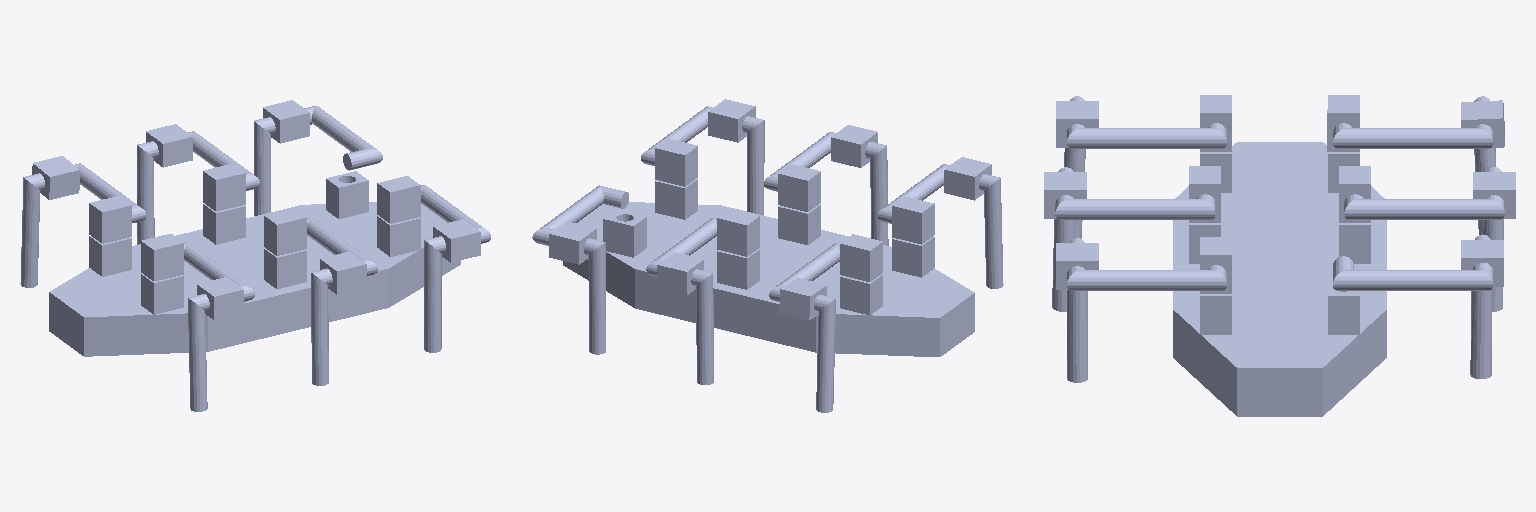
--- What the picture shows (computed from the rendered views, not written in the file) ---
3 views of the same robot in one strip: view 1: azimuth 30°, elevation 25°; view 2: azimuth 150°, elevation 25°; view 3: azimuth 270°, elevation 25° (orthographic).
Model hexapod with 20 links and 19 joints (18 revolute, 1 fixed), rooted at dummy_link, posed all joints at 0.
Links seen in each view (by area): view 1: base_link, lf2_Link, rf2_Link, rm2_Link, rb2_Link, lb2_Link, lm2_Link, rf3_Link, rb3_Link, rm3_Link, lb3_Link, rf1_Link (+6 smaller); view 2: base_link, lf2_Link, lm2_Link, lb2_Link, rb2_Link, rf2_Link, rm2_Link, lb3_Link, lm3_Link, rb3_Link, lf3_Link, rf1_Link (+6 smaller); view 3: base_link, lf2_Link, rm2_Link, lm2_Link, lb2_Link, rf2_Link, rb2_Link, rf3_Link, lf3_Link, lb1_Link, rm1_Link, lm1_Link (+6 smaller).
Link boxes in pixels (box(x1,y1,x2,y2)): base_link: box(49, 171, 460, 356); lf2_Link: box(263, 100, 382, 170); rf2_Link: box(421, 185, 490, 262); rm2_Link: box(307, 217, 377, 294); rb2_Link: box(184, 242, 254, 319); lb2_Link: box(32, 156, 146, 222); lm2_Link: box(146, 124, 259, 190); rf3_Link: box(424, 236, 445, 352); rb3_Link: box(188, 294, 209, 411); rm3_Link: box(311, 268, 332, 385); lb3_Link: box(20, 173, 44, 287); rf1_Link: box(377, 176, 420, 223); base_link: box(563, 179, 974, 356); lf2_Link: box(532, 185, 628, 264); lm2_Link: box(646, 218, 716, 295); lb2_Link: box(769, 243, 839, 319); rb2_Link: box(877, 157, 991, 223); rf2_Link: box(641, 99, 755, 165); rm2_Link: box(764, 125, 877, 191); lb3_Link: box(814, 295, 835, 412); lm3_Link: box(691, 269, 713, 384); rb3_Link: box(979, 174, 1003, 288); lf3_Link: box(584, 238, 605, 354); rf1_Link: box(655, 139, 697, 186); base_link: box(1173, 142, 1386, 416); lf2_Link: box(1333, 240, 1503, 290); rm2_Link: box(1044, 172, 1215, 219); lm2_Link: box(1344, 172, 1515, 219); lb2_Link: box(1333, 100, 1504, 148); rf2_Link: box(1056, 243, 1226, 290); rb2_Link: box(1056, 101, 1226, 148); rf3_Link: box(1067, 238, 1087, 382); lf3_Link: box(1470, 234, 1492, 378); lb1_Link: box(1327, 95, 1359, 151); rm1_Link: box(1189, 166, 1220, 222); lm1_Link: box(1339, 166, 1370, 222).
Bounding box of the posed robot: 0.25 × 0.22 × 0.0752 m (x, y, z).
Meshes: 19 distinct files referenced, 18 mesh visuals loaded (18 binary STL); not drawn: 1 (reference not matched to a file when rendering).

The robot description file, URDF, robot "hexapod":
<?xml version="1.0" encoding="utf-8"?>
<!-- This URDF was automatically created by SolidWorks to URDF Exporter! Originally created by Stephen Brawner ([email redacted]) 
     Commit Version: 1.6.0-1-g15f4949  Build Version: 1.6.7594.29634
     For more information, please see http://wiki.ros.org/sw_urdf_exporter -->
<robot
  name="hexapod">
    <link
    name="dummy_link" >
    <origin xyz="0 0 0" rpy="0 0 0" />
  </link>
  <joint
    name="dummy_joint"
    type="fixed">
    <parent
      link="dummy_link" />
    <child
      link="base_link" />
  </joint>
  <link
    name="base_link">
    <inertial>
      <origin
        xyz="3.20145534604253E-18 -1.38244662670018E-17 0.0227176528069366"
        rpy="0 0 0" />
      <mass
        value="0.258787611019616" />
      <inertia
        ixx="0.000389103015670694"
        ixy="-5.12225850354026E-19"
        ixz="-1.521049054889E-20"
        iyy="0.0022209092656707"
        iyz="-4.42660169786293E-21"
        izz="0.00255301401180441" />
    </inertial>
    <visual>
      <origin
        xyz="0 0 0"
        rpy="0 0 0" />
      <geometry>
        <mesh
          filename="package://hexapod/meshes/base_link.STL" />
      </geometry>
      <material
        name="">
        <color
          rgba="0.792156862745098 0.819607843137255 0.933333333333333 1" />
      </material>
    </visual>
    <collision>
      <origin
        xyz="0 0 0"
        rpy="0 0 0" />
      <geometry>
        <mesh
          filename="package://hexapod/meshes/base_link.STL" />
      </geometry>
    </collision>
  </link>
  <link
    name="rf1_Link">
    <inertial>
      <origin
        xyz="-0.000801354318491834 0.0105128667638348 0"
        rpy="0 0 0" />
      <mass
        value="0.00490044257124357" />
      <inertia
        ixx="2.78904980779558E-07"
        ixy="-2.01402307191712E-09"
        ixz="-8.74038380890282E-23"
        iyy="2.74337420831994E-07"
        iyz="6.94954202680523E-25"
        izz="3.41986869471007E-07" />
    </inertial>
    <visual>
      <origin
        xyz="0 0 0"
        rpy="0 0 0" />
      <geometry>
        <mesh
          filename="package://hexapod/meshes/rf1_Link.STL" />
      </geometry>
      <material
        name="">
        <color
          rgba="0.792156862745098 0.819607843137255 0.933333333333333 1" />
      </material>
    </visual>
    <collision>
      <origin
        xyz="0 0 0"
        rpy="0 0 0" />
      <geometry>
        <mesh
          filename="package://hexapod/meshes/rf1_Link.STL" />
      </geometry>
    </collision>
  </link>
  <joint
    name="rf1_joint"
    type="revolute">
    <origin
      xyz="0.0784707061381557 -0.0296916185387617 0.055"
      rpy="1.5707963267949 0 0" />
    <parent
      link="base_link" />
    <child
      link="rf1_Link" />
    <axis
      xyz="0 1 0" />
    <limit
      lower="-0.55" 
      upper="0.55" 
      effort="5"
      velocity="10" />
  </joint>
  <link
    name="rf2_Link">
    <inertial>
      <origin
        xyz="0.000328769051092789 0.0089941765653241 -0.0443120771823383"
        rpy="0 0 0" />
      <mass
        value="0.0119691777532889" />
      <inertia
        ixx="4.41875479028849E-06"
        ixy="-1.43654444306221E-09"
        ixz="2.95096244084679E-08"
        iyy="4.27723331847433E-06"
        iyz="1.93617938295013E-07"
        izz="4.41570451299138E-07" />
    </inertial>
    <visual>
      <origin
        xyz="0 0 0"
        rpy="0 0 0" />
      <geometry>
        <mesh
          filename="package://hexapod/meshes/rf2_Link.STL" />
      </geometry>
      <material
        name="">
        <color
          rgba="0.792156862745098 0.819607843137255 0.933333333333333 1" />
      </material>
    </visual>
    <collision>
      <origin
        xyz="0 0 0"
        rpy="0 0 0" />
      <geometry>
        <mesh
          filename="package://hexapod/meshes/rf2_Link.STL" />
      </geometry>
    </collision>
  </link>
  <joint
    name="rf2_joint"
    type="revolute">
    <origin
      xyz="0 0.01 0"
      rpy="3.14159265358979 -0.00741924340161995 1.5707963267949" />
    <parent
      link="rf1_Link" />
    <child
      link="rf2_Link" />
    <axis
      xyz="0 1 0" />
    <limit
      lower="-0.55" 
      upper="0.55" 
      effort="5"
      velocity="10" />
  </joint>
  <link
    name="rf3_Link">
    <inertial>
      <origin
        xyz="-8.47894252503645E-07 0.0135354903200816 -0.025481959853987"
        rpy="0 0 0" />
      <mass
        value="0.00636179146971272" />
      <inertia
        ixx="3.03427546578837E-06"
        ixy="2.11922824818498E-14"
        ixz="-1.84379723565689E-13"
        iyy="2.9485405148425E-06"
        iyz="2.41909286224138E-07"
        izz="1.65256738841228E-07" />
    </inertial>
    <visual>
      <origin
        xyz="0 0 0"
        rpy="0 0 0" />
      <geometry>
        <mesh
          filename="package://hexapod/meshes/rf3_Link.STL" />
      </geometry>
      <material
        name="">
        <color
          rgba="0.792156862745098 0.819607843137255 0.933333333333333 1" />
      </material>
    </visual>
    <collision>
      <origin
        xyz="0 0 0"
        rpy="0 0 0" />
      <geometry>
        <mesh
          filename="package://hexapod/meshes/rf3_Link.STL" />
      </geometry>
    </collision>
  </link>
  <joint
    name="rf3_joint"
    type="revolute">
    <origin
      xyz="0 0 -0.065"
      rpy="0 -1.56532623433024 3.14159265358979" />
    <parent
      link="rf2_Link" />
    <child
      link="rf3_Link" />
    <axis
      xyz="0 1 0" />
    <limit
      lower="-0.55" 
      upper="1.6" 
      effort="5"
      velocity="10" />
  </joint>
  <link
    name="rm1_Link">
    <inertial>
      <origin
        xyz="-0.000801354318491831 0.0105128667638348 0"
        rpy="0 0 0" />
      <mass
        value="0.00490044257124357" />
      <inertia
        ixx="2.78904980779558E-07"
        ixy="-2.0140230719171E-09"
        ixz="-1.12629119011893E-23"
        iyy="2.74337420831993E-07"
        iyz="3.9017611557146E-24"
        izz="3.41986869471007E-07" />
    </inertial>
    <visual>
      <origin
        xyz="0 0 0"
        rpy="0 0 0" />
      <geometry>
        <mesh
          filename="package://hexapod/meshes/rm1_Link.STL" />
      </geometry>
      <material
        name="">
        <color
          rgba="0.792156862745098 0.819607843137255 0.933333333333333 1" />
      </material>
    </visual>
    <collision>
      <origin
        xyz="0 0 0"
        rpy="0 0 0" />
      <geometry>
        <mesh
          filename="package://hexapod/meshes/rm1_Link.STL" />
      </geometry>
    </collision>
  </link>
  <joint
    name="rm1_joint"
    type="revolute">
    <origin
      xyz="0 -0.035 0.055"
      rpy="1.5707963267949 0 0" />
    <parent
      link="base_link" />
    <child
      link="rm1_Link" />
    <axis
      xyz="0 1 0" />
    <limit
      lower="-0.55" 
      upper="0.55" 
      effort="5"
      velocity="10" />
  </joint>
  <link
    name="rm2_Link">
    <inertial>
      <origin
        xyz="0.000819432470825547 0.0089941765653241 -0.044305719763121"
        rpy="0 0 0" />
      <mass
        value="0.0119691777532889" />
      <inertia
        ixx="4.41761360942237E-06"
        ixy="-3.58045747364913E-09"
        ixz="7.35404807416639E-08"
        iyy="4.27723331847435E-06"
        iyz="1.9359015990961E-07"
        izz="4.42711632165276E-07" />
    </inertial>
    <visual>
      <origin
        xyz="0 0 0"
        rpy="0 0 0" />
      <geometry>
        <mesh
          filename="package://hexapod/meshes/rm2_Link.STL" />
      </geometry>
      <material
        name="">
        <color
          rgba="0.792156862745098 0.819607843137255 0.933333333333333 1" />
      </material>
    </visual>
    <collision>
      <origin
        xyz="0 0 0"
        rpy="0 0 0" />
      <geometry>
        <mesh
          filename="package://hexapod/meshes/rm2_Link.STL" />
      </geometry>
    </collision>
  </link>
  <joint
    name="rm2_joint"
    type="revolute">
    <origin
      xyz="0 0.01 0"
      rpy="3.14159265358979 -0.0184928295817374 1.5707963267949" />
    <parent
      link="rm1_Link" />
    <child
      link="rm2_Link" />
    <axis
      xyz="0 1 0" />
    <limit
      lower="-0.55" 
      upper="0.55" 
      effort="5"
      velocity="10" />
  </joint>
  <link
    name="rm3_Link">
    <inertial>
      <origin
        xyz="-3.8450807626586E-05 0.013535490315758 -0.0247628068884473"
        rpy="0 0 0" />
      <mass
        value="0.00636179156645725" />
      <inertia
        ixx="3.03427550910364E-06"
        ixy="1.24988919508864E-14"
        ixz="-1.50012267511426E-13"
        iyy="2.94854055772639E-06"
        iyz="2.41909291361396E-07"
        izz="1.6525673984922E-07" />
    </inertial>
    <visual>
      <origin
        xyz="0 0 0"
        rpy="0 0 0" />
      <geometry>
        <mesh
          filename="package://hexapod/meshes/rm3_Link.STL" />
      </geometry>
      <material
        name="">
        <color
          rgba="0.792156862745098 0.819607843137255 0.933333333333333 1" />
      </material>
    </visual>
    <collision>
      <origin
        xyz="0 0 0"
        rpy="0 0 0" />
      <geometry>
        <mesh
          filename="package://hexapod/meshes/rm3_Link.STL" />
      </geometry>
    </collision>
  </link>
  <joint
    name="rm3_joint"
    type="revolute">
    <origin
      xyz="0 0 -0.065"
      rpy="0 -1.52955519083945 3.14159265358979" />
    <parent
      link="rm2_Link" />
    <child
      link="rm3_Link" />
    <axis
      xyz="0 1 0" />
    <limit
      lower="-0.55" 
      upper="0.55" 
      effort="5"
      velocity="10" />
  </joint>
  <link
    name="rb1_Link">
    <inertial>
      <origin
        xyz="-0.000801354318492251 0.0105128667638348 -1.12063136548102E-15"
        rpy="0 0 0" />
      <mass
        value="0.00490044257124357" />
      <inertia
        ixx="2.78904980779558E-07"
        ixy="-2.0140230719171E-09"
        ixz="-2.54719402989727E-24"
        iyy="2.74337420831993E-07"
        iyz="-5.64206701275276E-24"
        izz="3.41986869471006E-07" />
    </inertial>
    <visual>
      <origin
        xyz="0 0 0"
        rpy="0 0 0" />
      <geometry>
        <mesh
          filename="package://hexapod/meshes/rb1_Link.STL" />
      </geometry>
      <material
        name="">
        <color
          rgba="0.792156862745098 0.819607843137255 0.933333333333333 1" />
      </material>
    </visual>
    <collision>
      <origin
        xyz="0 0 0"
        rpy="0 0 0" />
      <geometry>
        <mesh
          filename="package://hexapod/meshes/rb1_Link.STL" />
      </geometry>
    </collision>
  </link>
  <joint
    name="rb1_joint"
    type="revolute">
    <origin
      xyz="-0.0784707061381557 -0.0296916185387617 0.055"
      rpy="1.5707963267949 0 0" />
    <parent
      link="base_link" />
    <child
      link="rb1_Link" />
    <axis
      xyz="0 1 0" />
    <limit
      lower="-0.52" 
      upper="0.52" 
      effort="5"
      velocity="10" />
  </joint>
  <link
    name="rb2_Link">
    <inertial>
      <origin
        xyz="0.000367377119521943 0.00899417656532391 -0.0443117739134239"
        rpy="0 0 0" />
      <mass
        value="0.0119691777532889" />
      <inertia
        ixx="4.41870034887128E-06"
        ixy="-1.60523918918751E-09"
        ixz="3.2974816464094E-08"
        iyy="4.27723331847434E-06"
        iyz="1.93616613173341E-07"
        izz="4.41624892716369E-07" />
    </inertial>
    <visual>
      <origin
        xyz="0 0 0"
        rpy="0 0 0" />
      <geometry>
        <mesh
          filename="package://hexapod/meshes/rb2_Link.STL" />
      </geometry>
      <material
        name="">
        <color
          rgba="0.792156862745098 0.819607843137255 0.933333333333333 1" />
      </material>
    </visual>
    <collision>
      <origin
        xyz="0 0 0"
        rpy="0 0 0" />
      <geometry>
        <mesh
          filename="package://hexapod/meshes/rb2_Link.STL" />
      </geometry>
    </collision>
  </link>
  <joint
    name="rb2_joint"
    type="revolute">
    <origin
      xyz="0 0.01 0"
      rpy="3.14159265358979 -0.00829052275834918 1.5707963267949" />
    <parent
      link="rb1_Link" />
    <child
      link="rb2_Link" />
    <axis
      xyz="0 1 0" />
    <limit
      lower="-0.52" 
      upper="0.52" 
      effort="5"
      velocity="10" />
  </joint>
  <link
    name="rb3_Link">
    <inertial>
      <origin
        xyz="-2.58287458214518E-05 0.0135354903114685 -0.0254259451202542"
        rpy="0 0 0" />
      <mass
        value="0.00636179166584072" />
      <inertia
        ixx="3.03427555339794E-06"
        ixy="5.61729355748622E-15"
        ixz="-1.22833830874616E-13"
        iyy="2.9485406016922E-06"
        iyz="2.41909296620173E-07"
        izz="1.65256740981015E-07" />
    </inertial>
    <visual>
      <origin
        xyz="0 0 0"
        rpy="0 0 0" />
      <geometry>
        <mesh
          filename="package://hexapod/meshes/rb3_Link.STL" />
      </geometry>
      <material
        name="">
        <color
          rgba="0.792156862745098 0.819607843137255 0.933333333333333 1" />
      </material>
    </visual>
    <collision>
      <origin
        xyz="0 0 0"
        rpy="0 0 0" />
      <geometry>
        <mesh
          filename="package://hexapod/meshes/rb3_Link.STL" />
      </geometry>
    </collision>
  </link>
  <joint
    name="rb3_joint"
    type="revolute">
    <origin
      xyz="0 0 -0.065"
      rpy="0 -1.51870135423192 3.14159265358979" />
    <parent
      link="rb2_Link" />
    <child
      link="rb3_Link" />
    <axis
      xyz="0 1 0" />
    <limit
      lower="-0.52" 
      upper="0.52" 
      effort="5"
      velocity="10" />
  </joint>
  <link
    name="lf1_Link">
    <inertial>
      <origin
        xyz="-0.000801354318491834 0.0105128667638348 0"
        rpy="0 0 0" />
      <mass
        value="0.00490044257124357" />
      <inertia
        ixx="2.78904980779558E-07"
        ixy="-2.01402307191712E-09"
        ixz="-7.41422845030475E-23"
        iyy="2.74337420831994E-07"
        iyz="-9.39559560790412E-25"
        izz="3.41986869471007E-07" />
    </inertial>
    <visual>
      <origin
        xyz="0 0 0"
        rpy="0 0 0" />
      <geometry>
        <mesh
          filename="package://hexapod/meshes/lf1_Link.STL" />
      </geometry>
      <material
        name="">
        <color
          rgba="0.792156862745098 0.819607843137255 0.933333333333333 1" />
      </material>
    </visual>
    <collision>
      <origin
        xyz="0 0 0"
        rpy="0 0 0" />
      <geometry>
        <mesh
          filename="package://hexapod/meshes/lf1_Link.STL" />
      </geometry>
    </collision>
  </link>
  <joint
    name="lf1_joint"
    type="revolute">
    <origin
      xyz="0.0784707061381558 0.0296916185387616 0.055"
      rpy="1.5707963267949 0 0" />
    <parent
      link="base_link" />
    <child
      link="lf1_Link" />
    <axis
      xyz="0 1 0" />
    <limit
      lower="-0.52" 
      upper="0.52" 
      effort="5"
      velocity="10" />
  </joint>
  <link
    name="lf2_Link">
    <inertial>
      <origin
        xyz="-0.00282474457879712 0.00735648927476751 -0.0442231736917084"
        rpy="0 0 0" />
      <mass
        value="0.0119691777532889" />
      <inertia
        ixx="4.40281099541734E-06"
        ixy="1.23424713006902E-08"
        ixz="-2.53037595237208E-07"
        iyy="4.27723331847433E-06"
        iyz="1.93229482977467E-07"
        izz="4.57514246170286E-07" />
    </inertial>
    <visual>
      <origin
        xyz="0 0 0"
        rpy="0 0 0" />
      <geometry>
        <mesh
          filename="package://hexapod/meshes/lf2_Link.STL" />
      </geometry>
      <material
        name="">
        <color
          rgba="0.792156862745098 0.819607843137255 0.933333333333333 1" />
      </material>
    </visual>
    <collision>
      <origin
        xyz="0 0 0"
        rpy="0 0 0" />
      <geometry>
        <mesh
          filename="package://hexapod/meshes/lf2_Link.STL" />
      </geometry>
    </collision>
  </link>
  <joint
    name="lf2_joint"
    type="revolute">
    <origin
      xyz="0 0.01 0"
      rpy="0 -0.063788 -1.5708" />
    <parent
      link="lf1_Link" />
    <child
      link="lf2_Link" />
    <axis
      xyz="0 1 0" />
    <limit
      lower="-0.52" 
      upper="0.52" 
      effort="5"
      velocity="10" />
  </joint>
  <link
    name="lf3_Link">
    <inertial>
      <origin
        xyz="8.01435907479553E-05 0.0145354903178246 -0.0218194583127338"
        rpy="0 0 0" />
      <mass
        value="0.00636179151893951" />
      <inertia
        ixx="3.03427548788298E-06"
        ixy="1.6003240678852E-14"
        ixz="-1.63856470902942E-13"
        iyy="2.94854053668662E-06"
        iyz="2.41909288844423E-07"
        izz="1.6525673932999E-07" />
    </inertial>
    <visual>
      <origin
        xyz="0 0 0"
        rpy="0 0 0" />
      <geometry>
        <mesh
          filename="package://hexapod/meshes/lf3_Link.STL" />
      </geometry>
      <material
        name="">
        <color
          rgba="0.792156862745098 0.819607843137255 0.933333333333333 1" />
      </material>
    </visual>
    <collision>
      <origin
        xyz="0 0 0"
        rpy="0 0 0" />
      <geometry>
        <mesh
          filename="package://hexapod/meshes/lf3_Link.STL" />
      </geometry>
    </collision>
  </link>
  <joint
    name="lf3_joint"
    type="revolute">
    <origin
      xyz="0 -0.00300000000000004 -0.065"
      rpy="0 1.51956873083506 -3.14159265358977" />
    <parent
      link="lf2_Link" />
    <child
      link="lf3_Link" />
    <axis
      xyz="0 1 0" />
    <limit
      lower="-0.52" 
      upper="0.52" 
      effort="5"
      velocity="10" />
  </joint>
  <link
    name="lm1_Link">
    <inertial>
      <origin
        xyz="-0.000801354318492437 0.0105128667638348 0"
        rpy="0 0 0" />
      <mass
        value="0.00490044257124357" />
      <inertia
        ixx="2.78904980779558E-07"
        ixy="-2.0140230719171E-09"
        ixz="-1.47087986460747E-24"
        iyy="2.74337420831993E-07"
        iyz="-1.33561032851435E-24"
        izz="3.41986869471006E-07" />
    </inertial>
    <visual>
      <origin
        xyz="0 0 0"
        rpy="0 0 0" />
      <geometry>
        <mesh
          filename="package://hexapod/meshes/lm1_Link.STL" />
      </geometry>
      <material
        name="">
        <color
          rgba="0.792156862745098 0.819607843137255 0.933333333333333 1" />
      </material>
    </visual>
    <collision>
      <origin
        xyz="0 0 0"
        rpy="0 0 0" />
      <geometry>
        <mesh
          filename="package://hexapod/meshes/lm1_Link.STL" />
      </geometry>
    </collision>
  </link>
  <joint
    name="lm1_joint"
    type="revolute">
    <origin
      xyz="0 0.035 0.055"
      rpy="1.5708 0 0" />
    <parent
      link="base_link" />
    <child
      link="lm1_Link" />
    <axis
      xyz="0 1 0" />
    <limit
      lower="-0.52" 
      upper="0.52" 
      effort="5"
      velocity="10" />
  </joint>
  <link
    name="lm2_Link">
    <inertial>
      <origin
        xyz="-0.000720126198541483 0.00899417656532349 -0.0443074451030594"
        rpy="0 0 0" />
      <mass
        value="0.011969177753289" />
      <inertia
        ixx="4.41792327774807E-06"
        ixy="3.14651617666753E-09"
        ixz="-6.46313018063495E-08"
        iyy="4.27723331847436E-06"
        iyz="1.93597699174083E-07"
        izz="4.42401963839591E-07" />
    </inertial>
    <visual>
      <origin
        xyz="0 0 0"
        rpy="0 0 0" />
      <geometry>
        <mesh
          filename="package://hexapod/meshes/lm2_Link.STL" />
      </geometry>
      <material
        name="">
        <color
          rgba="0.792156862745098 0.819607843137255 0.933333333333333 1" />
      </material>
    </visual>
    <collision>
      <origin
        xyz="0 0 0"
        rpy="0 0 0" />
      <geometry>
        <mesh
          filename="package://hexapod/meshes/lm2_Link.STL" />
      </geometry>
    </collision>
  </link>
  <joint
    name="lm2_joint"
    type="revolute">
    <origin
      xyz="0 0.01 0"
      rpy="0 -0.016252 -1.5708" />
    <parent
      link="lm1_Link" />
    <child
      link="lm2_Link" />
    <axis
      xyz="0 1 0" />
    <limit
      lower="-0.52" 
      upper="0.52" 
      effort="5"
      velocity="10" />
  </joint>
  <link
    name="lm3_Link">
    <inertial>
      <origin
        xyz="-4.47134395803461E-06 0.0135354903178655 -0.0249078803668234"
        rpy="0 0 0" />
      <mass
        value="0.00636179151800615" />
      <inertia
        ixx="3.03427548746587E-06"
        ixy="1.60735236491505E-14"
        ixz="-1.64134178409104E-13"
        iyy="2.94854053627325E-06"
        iyz="2.41909288794903E-07"
        izz="1.6525673931994E-07" />
    </inertial>
    <visual>
      <origin
        xyz="0 0 0"
        rpy="0 0 0" />
      <geometry>
        <mesh
          filename="package://hexapod/meshes/lm3_Link.STL" />
      </geometry>
      <material
        name="">
        <color
          rgba="0.792156862745098 0.819607843137255 0.933333333333333 1" />
      </material>
    </visual>
    <collision>
      <origin
        xyz="0 0 0"
        rpy="0 0 0" />
      <geometry>
        <mesh
          filename="package://hexapod/meshes/lm3_Link.STL" />
      </geometry>
    </collision>
  </link>
  <joint
    name="lm3_joint"
    type="revolute">
    <origin
      xyz="0 0 -0.065"
      rpy="0 1.56690433227357 -3.14159265358975" />
    <parent
      link="lm2_Link" />
    <child
      link="lm3_Link" />
    <axis
      xyz="0 1 0" />
    <limit
      lower="-0.52" 
      upper="0.52" 
      effort="5"
      velocity="10" />
  </joint>
  <link
    name="lb1_Link">
    <inertial>
      <origin
        xyz="-0.000801354318493 0.0105128667638348 -8.6389229103645E-16"
        rpy="0 0 0" />
      <mass
        value="0.00490044257124357" />
      <inertia
        ixx="2.78904980779558E-07"
        ixy="-2.01402307191713E-09"
        ixz="5.24561755329331E-22"
        iyy="2.74337420831993E-07"
        iyz="1.32231767941277E-23"
        izz="3.41986869471006E-07" />
    </inertial>
    <visual>
      <origin
        xyz="0 0 0"
        rpy="0 0 0" />
      <geometry>
        <mesh
          filename="package://hexapod/meshes/lb1_Link.STL" />
      </geometry>
      <material
        name="">
        <color
          rgba="0.792156862745098 0.819607843137255 0.933333333333333 1" />
      </material>
    </visual>
    <collision>
      <origin
        xyz="0 0 0"
        rpy="0 0 0" />
      <geometry>
        <mesh
          filename="package://hexapod/meshes/lb1_Link.STL" />
      </geometry>
    </collision>
  </link>
  <joint
    name="lb1_joint"
    type="revolute">
    <origin
      xyz="-0.078471 0.029692 0.055"
      rpy="1.5708 0 -0.0012908" />
    <parent
      link="base_link" />
    <child
      link="lb1_Link" />
    <axis
      xyz="0 1 0" />
    <limit
      lower="-0.52" 
      upper="0.52" 
      effort="5"
      velocity="10" />
  </joint>
  <link
    name="lb2_Link">
    <inertial>
      <origin
        xyz="0.0021471187436435 0.00899417656518443 -0.0442612489263005"
        rpy="0 0 0" />
      <mass
        value="0.0119691777524447" />
      <inertia
        ixx="4.40984076977829E-06"
        ixy="-9.38167224199385E-09"
        ixz="1.8816442892996E-07"
        iyy="4.2772333151068E-06"
        iyz="1.93395846957033E-07"
        izz="4.50484468381765E-07" />
    </inertial>
    <visual>
      <origin
        xyz="0 0 0"
        rpy="0 0 0" />
      <geometry>
        <mesh
          filename="package://hexapod/meshes/lb2_Link.STL" />
      </geometry>
      <material
        name="">
        <color
          rgba="0.792156862745098 0.819607843137255 0.933333333333333 1" />
      </material>
    </visual>
    <collision>
      <origin
        xyz="0 0 0"
        rpy="0 0 0" />
      <geometry>
        <mesh
          filename="package://hexapod/meshes/lb2_Link.STL" />
      </geometry>
    </collision>
  </link>
  <joint
    name="lb2_joint"
    type="revolute">
    <origin
      xyz="0 0.01 0"
      rpy="0 0.048472 -1.5708" />
    <parent
      link="lb1_Link" />
    <child
      link="lb2_Link" />
    <axis
      xyz="0 1 0" />
    <limit
      lower="-0.52" 
      upper="0.52" 
      effort="5"
      velocity="10" />
  </joint>
  <link
    name="lb3_Link">
    <inertial>
      <origin
        xyz="-7.82890733341673E-05 0.0135354903093429 -0.029113613631381"
        rpy="0 0 0" />
      <mass
        value="0.00636179168831326" />
      <inertia
        ixx="3.03427556145382E-06"
        ixy="3.66847325708018E-14"
        ixz="-2.46031123605924E-13"
        iyy="2.94854061067938E-06"
        iyz="2.41909297965992E-07"
        izz="1.65256742015732E-07" />
    </inertial>
    <visual>
      <origin
        xyz="0 0 0"
        rpy="0 0 0" />
      <geometry>
        <mesh
          filename="package://hexapod/meshes/lb3_Link.STL" />
      </geometry>
      <material
        name="">
        <color
          rgba="0.792156862745098 0.819607843137255 0.933333333333333 1" />
      </material>
    </visual>
    <collision>
      <origin
        xyz="0 0 0"
        rpy="0 0 0" />
      <geometry>
        <mesh
          filename="package://hexapod/meshes/lb3_Link.STL" />
      </geometry>
    </collision>
  </link>
  <joint
    name="lb3_joint"
    type="revolute">
    <origin
      xyz="0 0 -0.065"
      rpy="0 1.5702 -3.1416" />
    <parent
      link="lb2_Link" />
    <child
      link="lb3_Link" />
    <axis
      xyz="0 1 0" />
    <limit
      lower="-0.52" 
      upper="0.52" 
      effort="5"
      velocity="10" />
  </joint>
  
 <transmission name="rf1_trans">
   <type>SimpleTransmission</type>
   <joint name="rf1_joint">
     <hardwareInterface>hardware_interface/EffortJointInterface</hardwareInterface>
   </joint>
   <actuator name="rf1_act">
     <mechanicalReduction>1</mechanicalReduction> 
     <hardwareInterface>VelocityJointInterface</hardwareInterface>
   </actuator>
 </transmission>
    <transmission name="rf2_trans">
   <type>SimpleTransmission</type>
   <joint name="rf2_joint">
     <hardwareInterface>hardware_interface/EffortJointInterface</hardwareInterface>
   </joint>
   <actuator name="rf2_act">
     <mechanicalReduction>1</mechanicalReduction> 
     <hardwareInterface>VelocityJointInterface</hardwareInterface>
   </actuator>
 </transmission>
    <transmission name="rf3_trans">
   <type>SimpleTransmission</type>
   <joint name="rf3_joint">
     <hardwareInterface>hardware_interface/EffortJointInterface</hardwareInterface>
   </joint>
   <actuator name="rf3_act">
     <mechanicalReduction>1</mechanicalReduction> 
     <hardwareInterface>VelocityJointInterface</hardwareInterface>
   </actuator>
 </transmission>
    <transmission name="rm1_trans">
   <type>SimpleTransmission</type>
   <joint name="rm1_joint">
     <hardwareInterface>hardware_interface/EffortJointInterface</hardwareInterface>
   </joint>
   <actuator name="rm1_act">
     <mechanicalReduction>1</mechanicalReduction> 
     <hardwareInterface>VelocityJointInterface</hardwareInterface>
   </actuator>
 </transmission>
    <transmission name="rm2_trans">
   <type>SimpleTransmission</type>
   <joint name="rm2_joint">
     <hardwareInterface>hardware_interface/EffortJointInterface</hardwareInterface>
   </joint>
   <actuator name="rm2_act">
     <mechanicalReduction>1</mechanicalReduction> 
     <hardwareInterface>VelocityJointInterface</hardwareInterface>
   </actuator>
 </transmission>
     <transmission name="rm3_trans">
   <type>SimpleTransmission</type>
   <joint name="rm3_joint">
     <hardwareInterface>hardware_interface/EffortJointInterface</hardwareInterface>
   </joint>
   <actuator name="rm3_act">
     <mechanicalReduction>1</mechanicalReduction> 
     <hardwareInterface>VelocityJointInterface</hardwareInterface>
   </actuator>
 </transmission>
<transmission name="rb1_trans">
   <type>SimpleTransmission</type>
   <joint name="rb1_joint">
     <hardwareInterface>hardware_interface/EffortJointInterface</hardwareInterface>
   </joint>
   <actuator name="rb1_act">
     <mechanicalReduction>1</mechanicalReduction> 
     <hardwareInterface>VelocityJointInterface</hardwareInterface>
   </actuator>
 </transmission>
 <transmission name="rb2_trans">
   <type>SimpleTransmission</type>
   <joint name="rb2_joint">
     <hardwareInterface>hardware_interface/EffortJointInterface</hardwareInterface>
   </joint>
   <actuator name="rb2_act">
     <mechanicalReduction>1</mechanicalReduction> 
     <hardwareInterface>VelocityJointInterface</hardwareInterface>
   </actuator>
 </transmission>
 <transmission name="rb3_trans">
   <type>SimpleTransmission</type>
   <joint name="rb3_joint">
     <hardwareInterface>hardware_interface/EffortJointInterface</hardwareInterface>
   </joint>
   <actuator name="rb3_act">
     <mechanicalReduction>1</mechanicalReduction> 
     <hardwareInterface>VelocityJointInterface</hardwareInterface>
   </actuator>
 </transmission>


<transmission name="lf1_trans">
   <type>SimpleTransmission</type>
   <joint name="lf1_joint">
     <hardwareInterface>hardware_interface/EffortJointInterface</hardwareInterface>
   </joint>
   <actuator name="lf1_act">
     <mechanicalReduction>1</mechanicalReduction> 
     <hardwareInterface>VelocityJointInterface</hardwareInterface>
   </actuator>
 </transmission>
    <transmission name="lf2_trans">
   <type>SimpleTransmission</type>
   <joint name="lf2_joint">
     <hardwareInterface>hardware_interface/EffortJointInterface</hardwareInterface>
   </joint>
   <actuator name="lf2_act">
     <mechanicalReduction>1</mechanicalReduction> 
     <hardwareInterface>VelocityJointInterface</hardwareInterface>
   </actuator>
 </transmission>
    <transmission name="lf3_trans">
   <type>SimpleTransmission</type>
   <joint name="lf3_joint">
     <hardwareInterface>hardware_interface/EffortJointInterface</hardwareInterface>
   </joint>
   <actuator name="lf3_act">
     <mechanicalReduction>1</mechanicalReduction> 
     <hardwareInterface>VelocityJointInterface</hardwareInterface>
   </actuator>
 </transmission>
    <transmission name="lm1_trans">
   <type>SimpleTransmission</type>
   <joint name="lm1_joint">
     <hardwareInterface>hardware_interface/EffortJointInterface</hardwareInterface>
   </joint>
   <actuator name="lm1_act">
     <mechanicalReduction>1</mechanicalReduction> 
     <hardwareInterface>VelocityJointInterface</hardwareInterface>
   </actuator>
 </transmission>
    <transmission name="lm2_trans">
   <type>SimpleTransmission</type>
   <joint name="lm2_joint">
     <hardwareInterface>hardware_interface/EffortJointInterface</hardwareInterface>
   </joint>
   <actuator name="lm2_act">
     <mechanicalReduction>1</mechanicalReduction> 
     <hardwareInterface>VelocityJointInterface</hardwareInterface>
   </actuator>
 </transmission>
     <transmission name="lm3_trans">
   <type>SimpleTransmission</type>
   <joint name="lm3_joint">
     <hardwareInterface>hardware_interface/EffortJointInterface</hardwareInterface>
   </joint>
   <actuator name="lm3_act">
     <mechanicalReduction>1</mechanicalReduction> 
     <hardwareInterface>VelocityJointInterface</hardwareInterface>
   </actuator>
 </transmission>
<transmission name="lb1_trans">
   <type>SimpleTransmission</type>
   <joint name="lb1_joint">
     <hardwareInterface>hardware_interface/EffortJointInterface</hardwareInterface>
   </joint>
   <actuator name="lb1_act">
     <mechanicalReduction>1</mechanicalReduction> 
     <hardwareInterface>VelocityJointInterface</hardwareInterface>
   </actuator>
 </transmission>
 <transmission name="lb2_trans">
   <type>SimpleTransmission</type>
   <joint name="lb2_joint">
     <hardwareInterface>hardware_interface/EffortJointInterface</hardwareInterface>
   </joint>
   <actuator name="lb2_act">
     <mechanicalReduction>1</mechanicalReduction> 
     <hardwareInterface>VelocityJointInterface</hardwareInterface>
   </actuator>
 </transmission>
 <transmission name="lb3_trans">
   <type>SimpleTransmission</type>
   <joint name="lb3_joint">
     <hardwareInterface>hardware_interface/EffortJointInterface</hardwareInterface>
   </joint>
   <actuator name="lb3_act">
     <mechanicalReduction>1</mechanicalReduction> 
     <hardwareInterface>VelocityJointInterface</hardwareInterface>
   </actuator>
 </transmission>

  <gazebo>
    <plugin name="gazebo_ros_control" filename="libgazebo_ros_control.so">
      <robotNamespace>/hexapod</robotNamespace>
    </plugin>
  </gazebo>
</robot>
